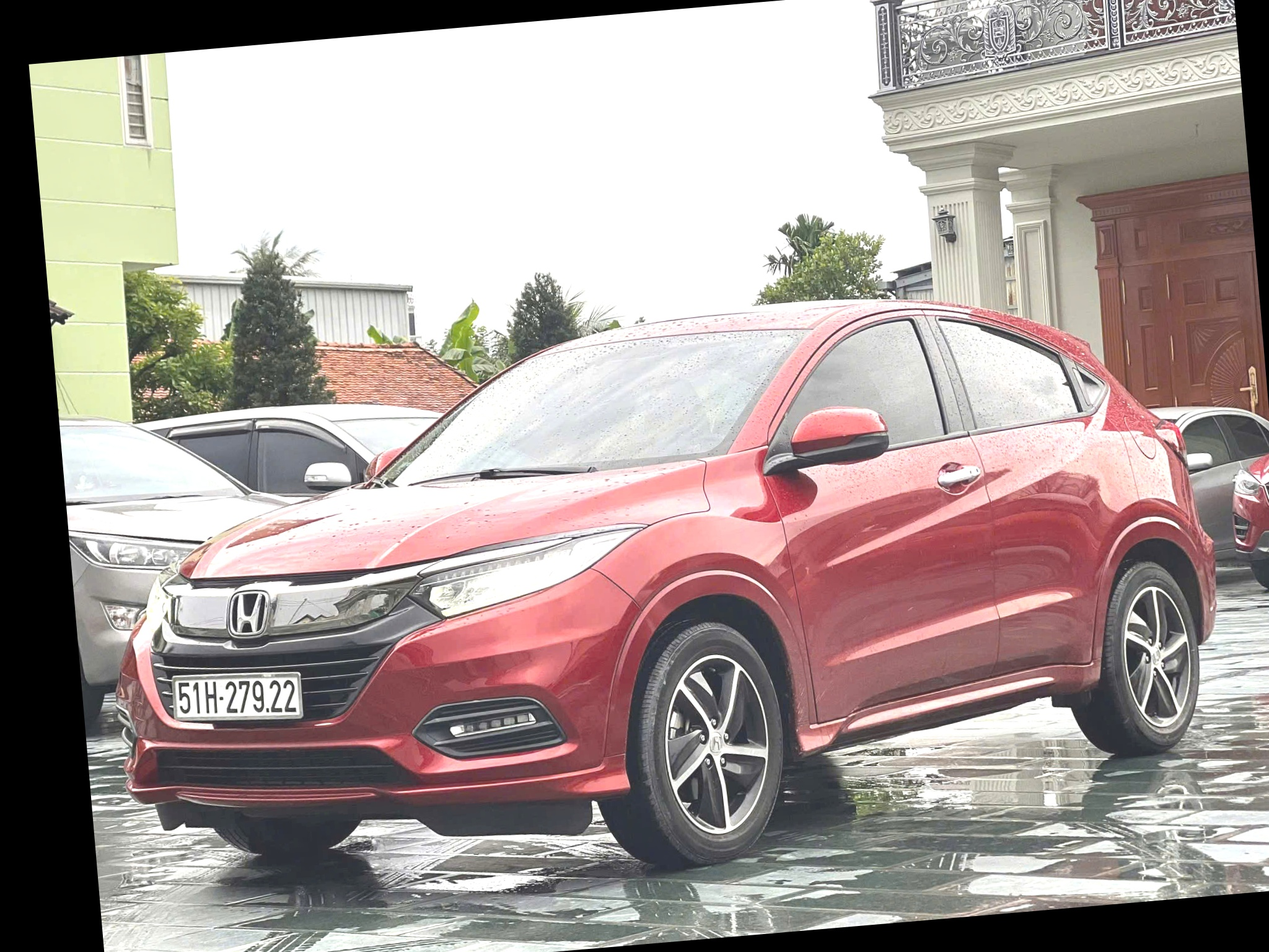Bien-so: (170, 668, 304, 725)
